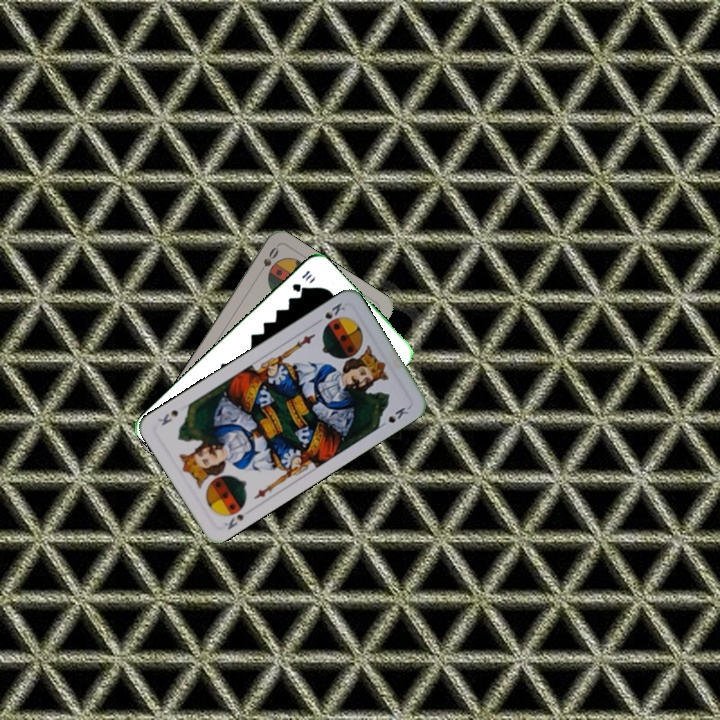G10: (288, 266, 314, 295)
SK: (321, 298, 348, 322), (220, 510, 247, 532)
SO: (254, 243, 282, 279)
